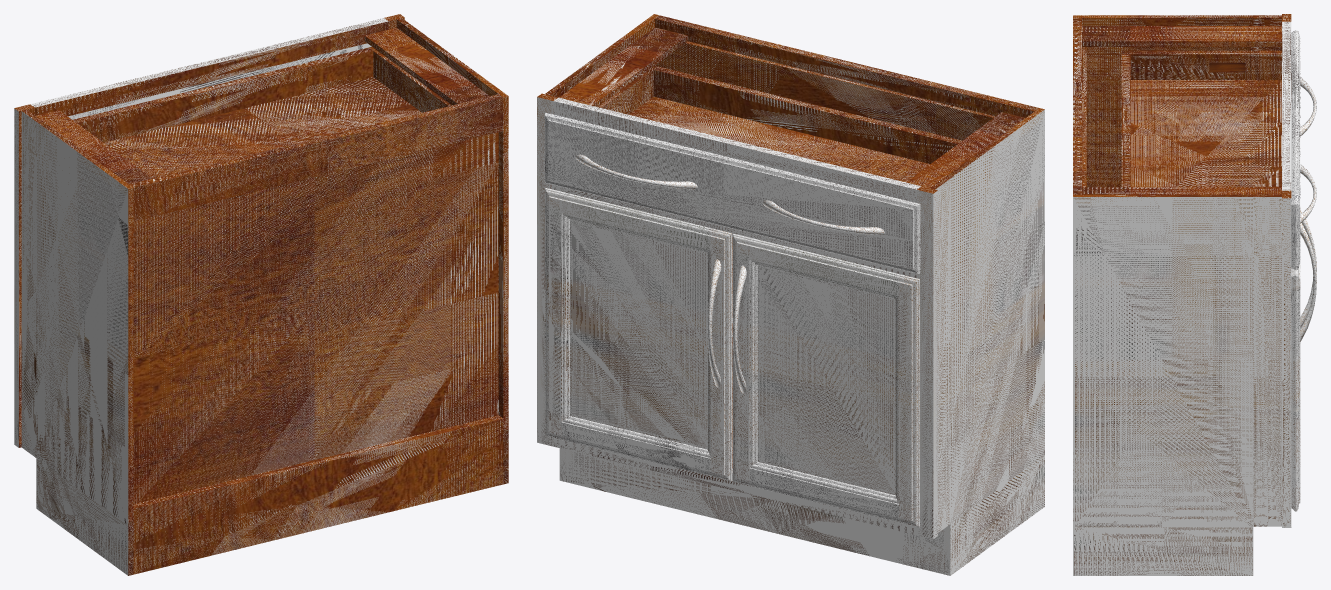
3 views of the same model, side by side, from view 1: azimuth 30°, elevation 25°; view 2: azimuth 150°, elevation 25°; view 3: azimuth 270°, elevation 25° (orthographic). The views are drawn at different scales.
Visible parts, largest first — view 1: mesh5_mesh5-geometry, mesh8_mesh8-geometry, mesh13_mesh13-geometry, mesh4_mesh4-geometry, mesh20_mesh20-geometry, mesh18_mesh18-geometry, mesh6_mesh6-geometry, mesh7_mesh7-geometry, mesh9_mesh9-geometry, mesh11_mesh11-geometry, mesh15_mesh15-geometry, mesh3_mesh3-geometry (+3 smaller); view 2: mesh8_mesh8-geometry, mesh40_mesh40-geometry, mesh50_mesh50-geometry, mesh27_mesh27-geometry, mesh14_mesh14-geometry, mesh6_mesh6-geometry, mesh5_mesh5-geometry, mesh3_mesh3-geometry, mesh18_mesh18-geometry, mesh4_mesh4-geometry, mesh20_mesh20-geometry, mesh9_mesh9-geometry (+26 smaller); view 3: mesh11_mesh11-geometry, mesh20_mesh20-geometry, mesh10_mesh10-geometry, mesh12_mesh12-geometry, mesh8_mesh8-geometry, mesh17_mesh17-geometry, mesh16_mesh16-geometry, mesh3_mesh3-geometry, mesh41_mesh41-geometry, mesh6_mesh6-geometry, mesh28_mesh28-geometry, mesh15_mesh15-geometry (+10 smaller).
Boxes of the visible parts, x1,y1,x2,y2 form: mesh5_mesh5-geometry: [133, 132, 498, 503]; mesh8_mesh8-geometry: [36, 120, 133, 525]; mesh13_mesh13-geometry: [133, 415, 503, 574]; mesh4_mesh4-geometry: [129, 94, 503, 220]; mesh20_mesh20-geometry: [104, 77, 421, 178]; mesh18_mesh18-geometry: [73, 47, 373, 142]; mesh6_mesh6-geometry: [30, 18, 388, 116]; mesh7_mesh7-geometry: [21, 109, 40, 457]; mesh9_mesh9-geometry: [36, 458, 133, 575]; mesh11_mesh11-geometry: [411, 29, 508, 433]; mesh15_mesh15-geometry: [364, 28, 489, 105]; mesh3_mesh3-geometry: [14, 14, 404, 447]; mesh8_mesh8-geometry: [945, 108, 1044, 523]; mesh40_mesh40-geometry: [571, 221, 706, 446]; mesh50_mesh50-geometry: [759, 267, 894, 492]; mesh27_mesh27-geometry: [549, 121, 911, 268]; mesh14_mesh14-geometry: [565, 449, 944, 574]; mesh6_mesh6-geometry: [553, 97, 921, 535]; mesh5_mesh5-geometry: [655, 41, 995, 370]; mesh3_mesh3-geometry: [537, 93, 937, 539]; mesh18_mesh18-geometry: [653, 66, 961, 163]; mesh4_mesh4-geometry: [655, 15, 1038, 117]; mesh20_mesh20-geometry: [629, 96, 929, 182]; mesh9_mesh9-geometry: [945, 455, 1044, 575]; mesh11_mesh11-geometry: [1073, 194, 1253, 526]; mesh20_mesh20-geometry: [1130, 80, 1281, 187]; mesh10_mesh10-geometry: [1253, 194, 1281, 526]; mesh12_mesh12-geometry: [1073, 526, 1253, 575]; mesh8_mesh8-geometry: [1073, 15, 1253, 187]; mesh17_mesh17-geometry: [1121, 50, 1281, 79]; mesh16_mesh16-geometry: [1082, 26, 1281, 46]; mesh3_mesh3-geometry: [1282, 14, 1291, 527]; mesh41_mesh41-geometry: [1291, 299, 1300, 485]; mesh6_mesh6-geometry: [1282, 21, 1291, 190]; mesh28_mesh28-geometry: [1291, 33, 1300, 205]; mesh15_mesh15-geometry: [1082, 187, 1281, 194].
Size of the model in its own units: 0.6695 by 0.6416 by 0.3743.
